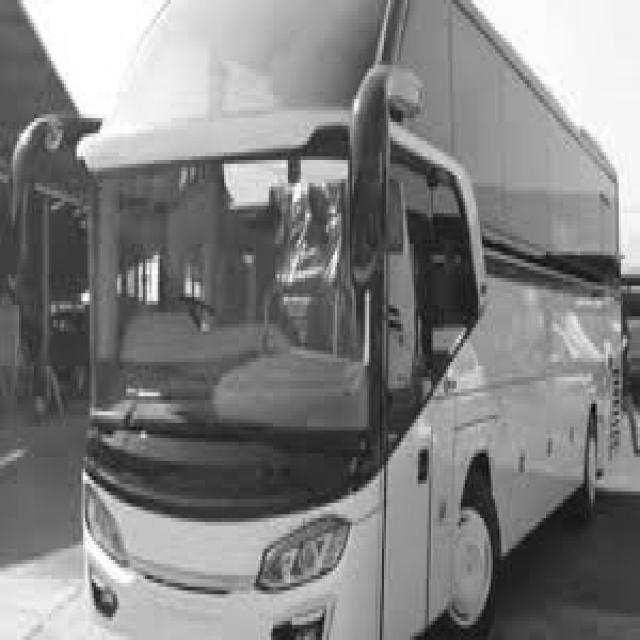Bus: (83, 4, 623, 638)
